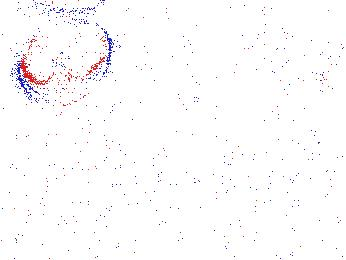moon jellyfish: (18, 18, 110, 108), (116, 13, 220, 71), (246, 12, 344, 63)
